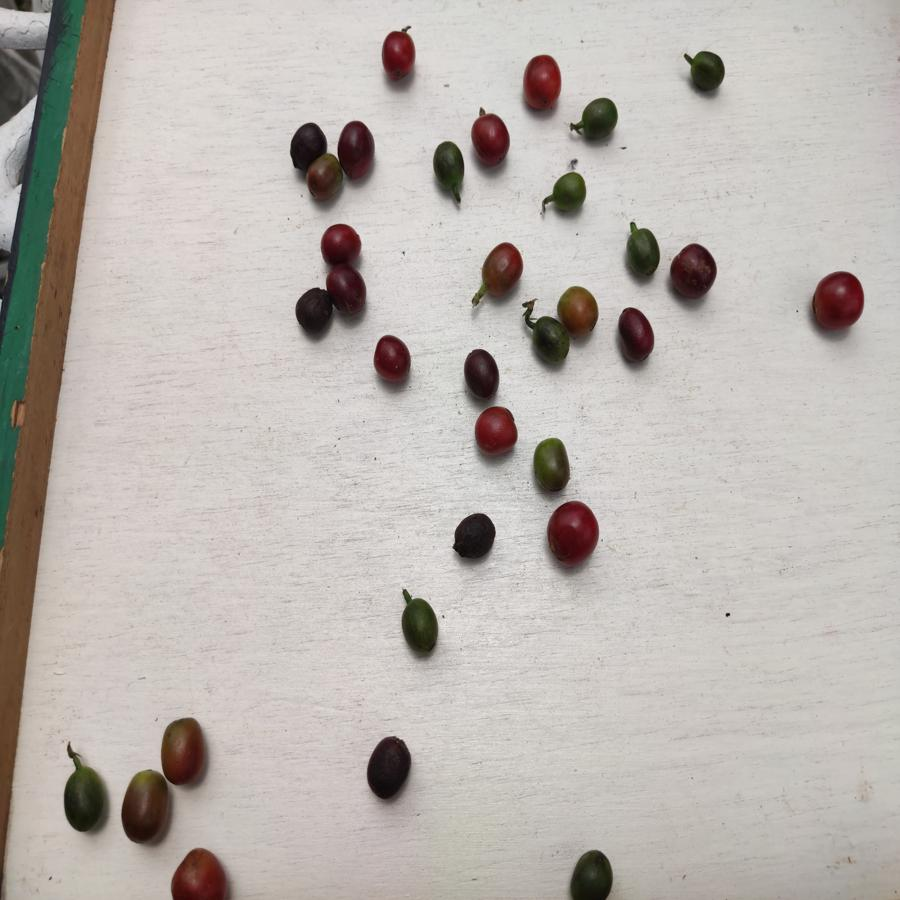Inmaduro: (57, 765, 105, 835), (570, 846, 619, 900), (401, 597, 440, 656), (578, 97, 621, 141), (625, 225, 660, 279), (429, 141, 466, 192), (531, 313, 564, 364), (688, 50, 726, 92), (551, 173, 589, 210)
Maduro: (545, 500, 601, 563), (165, 849, 233, 900), (812, 269, 865, 329), (522, 52, 564, 112), (473, 405, 519, 458), (471, 112, 512, 165), (378, 29, 420, 80)
Pinton: (122, 768, 168, 844), (162, 717, 207, 789), (478, 243, 527, 298), (559, 285, 599, 337), (533, 439, 570, 489), (305, 157, 341, 199)
Sobremaduro: (363, 736, 414, 802), (667, 240, 717, 302), (338, 121, 377, 180), (617, 307, 657, 364), (327, 263, 369, 317), (451, 513, 497, 560), (462, 347, 501, 402), (370, 333, 412, 383), (319, 223, 365, 267), (296, 290, 334, 336), (288, 123, 329, 156)
